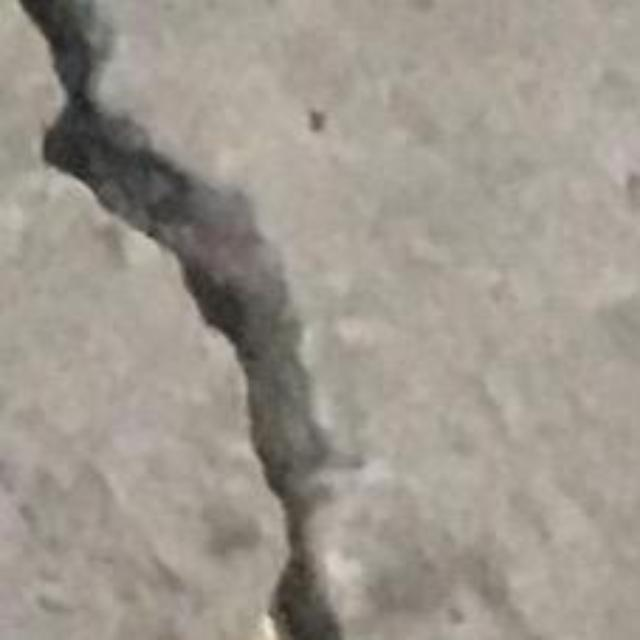crack: (20, 0, 343, 639)
